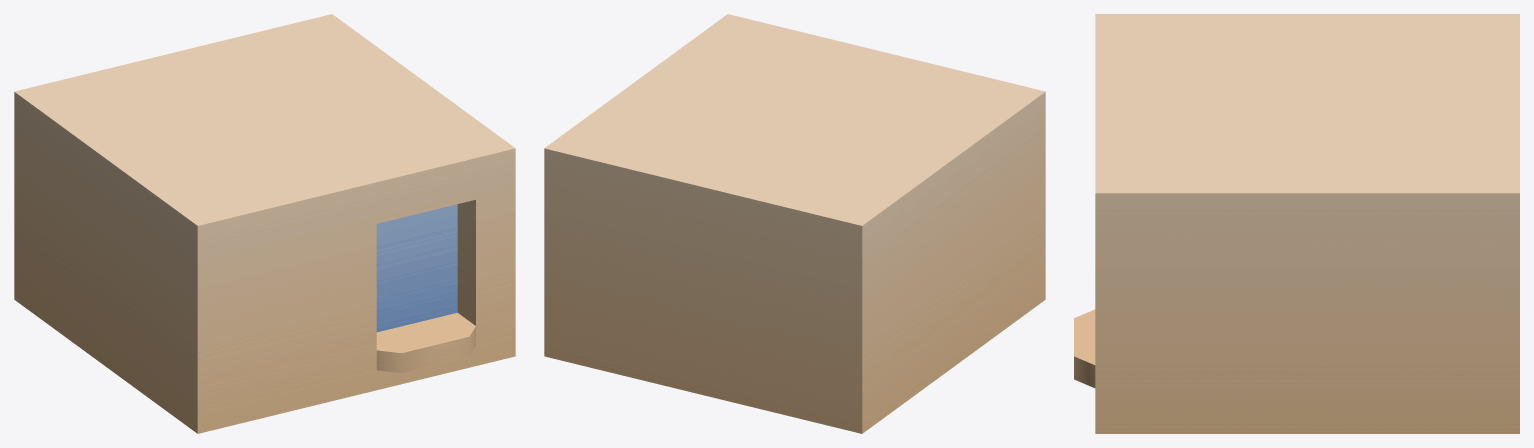
3 renders of one model, left to right at view 1: azimuth 30°, elevation 25°; view 2: azimuth 150°, elevation 25°; view 3: azimuth 270°, elevation 25°, orthographic. The views are drawn at different scales.
Visible parts, largest first — view 1: building-window-right-sill; view 2: building-window-right-sill; view 3: building-window-right-sill.
Boxes of the visible parts, x1=… form: building-window-right-sill: x1=14, y1=14, x2=515, y2=433; building-window-right-sill: x1=544, y1=14, x2=1045, y2=433; building-window-right-sill: x1=1074, y1=14, x2=1519, y2=433.
Size of the model in its own units: 1 by 0.625 by 1.05.
Materials: 1 (1 with a texture image).
